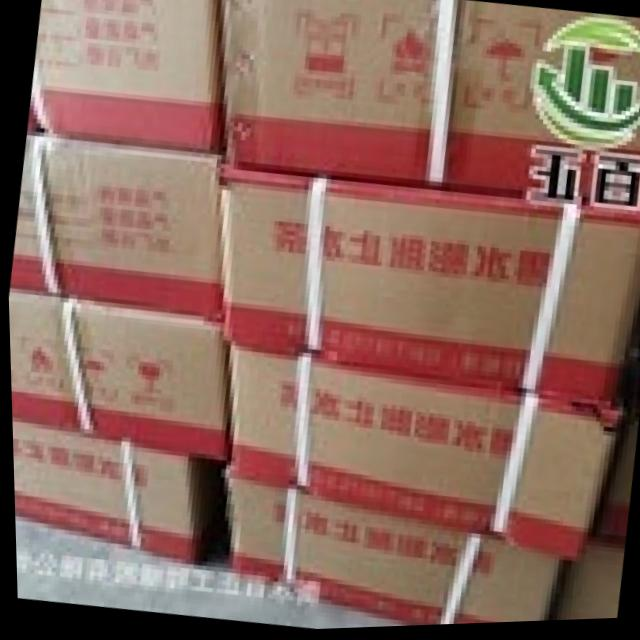box: (219, 170, 640, 409), (227, 348, 620, 567), (221, 0, 640, 205), (224, 476, 561, 628), (13, 136, 219, 323), (8, 284, 228, 459), (31, 0, 221, 156), (10, 422, 193, 562), (590, 399, 635, 547), (550, 536, 617, 624)
